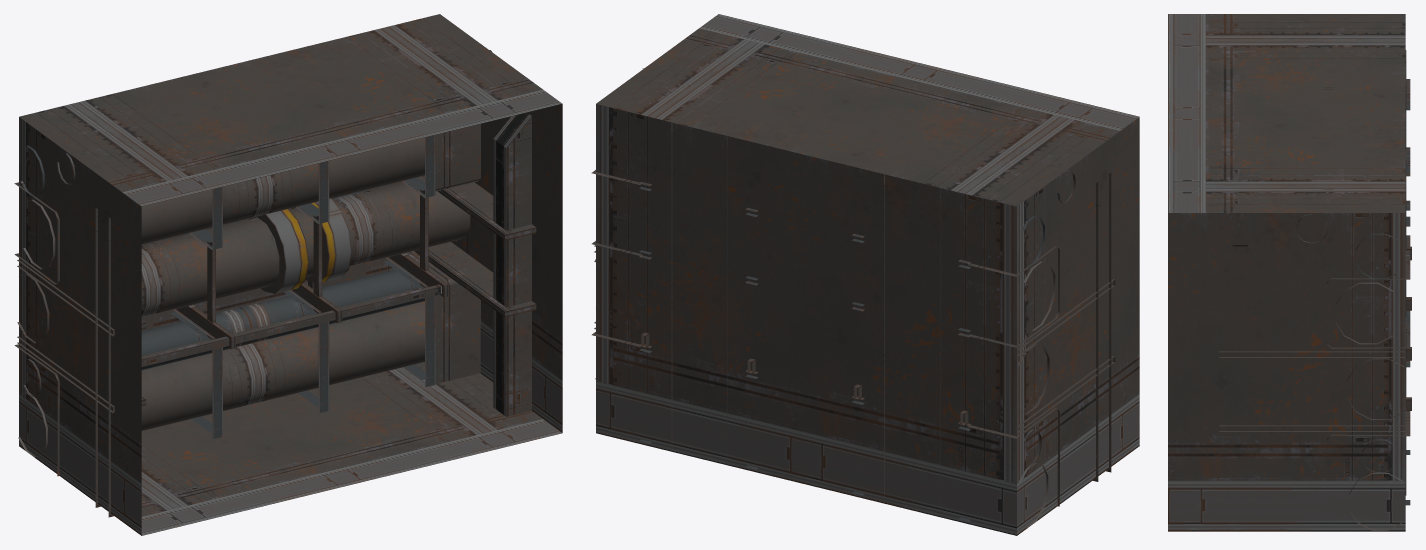
File: Wall_grid_Int_L1.fbx
3 renders of one model, left to right at view 1: azimuth 30°, elevation 25°; view 2: azimuth 150°, elevation 25°; view 3: azimuth 270°, elevation 25°, orthographic. The views are drawn at different scales.
Parts seen in each view (by area): view 1: polySurface254; view 2: polySurface254; view 3: polySurface254.
Boxes of the visible parts, bbox=[...] form: polySurface254: bbox=[14, 14, 562, 535]; polySurface254: bbox=[591, 14, 1139, 535]; polySurface254: bbox=[1168, 14, 1411, 531].
Size of the model in its own units: 400 by 299 by 205.
